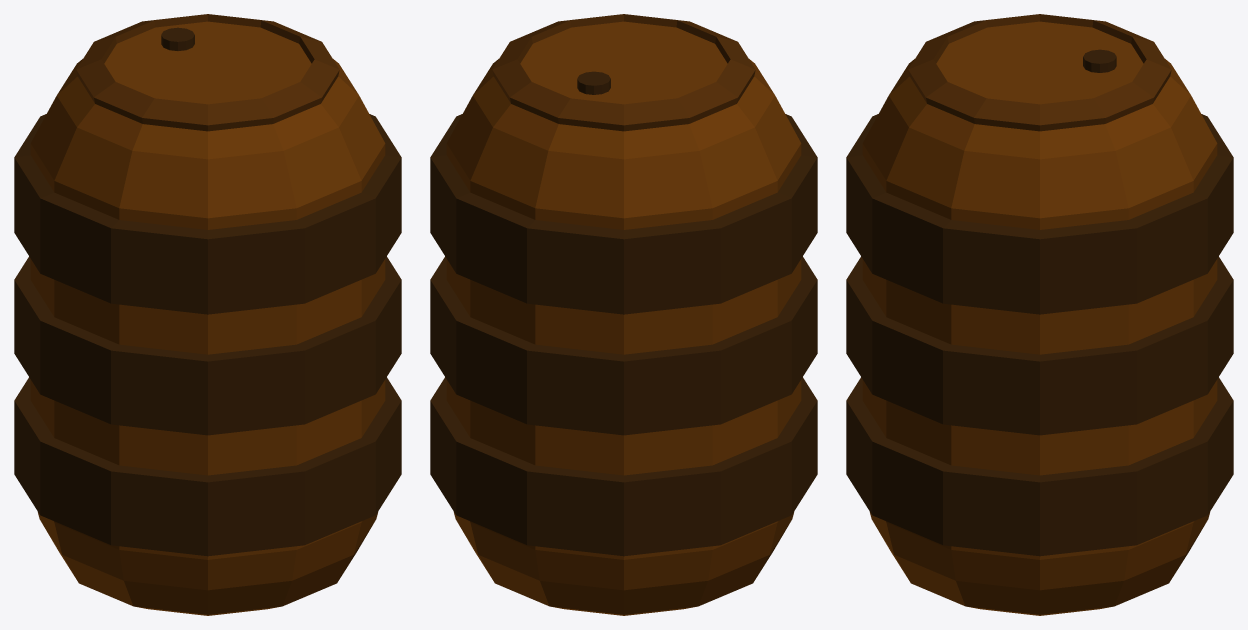
File: Barrel_01.fbx
3 renders of one model, left to right at view 1: azimuth 30°, elevation 25°; view 2: azimuth 150°, elevation 25°; view 3: azimuth 270°, elevation 25°, orthographic.
Visible parts, largest first — view 1: Barrel_01; view 2: Barrel_01; view 3: Barrel_01.
Part boxes in pixels (x1=…): Barrel_01: x1=14, y1=14, x2=401, y2=615; Barrel_01: x1=430, y1=14, x2=817, y2=615; Barrel_01: x1=846, y1=14, x2=1233, y2=615.
Size of the model in its own units: 63.25 by 91.66 by 63.25.
